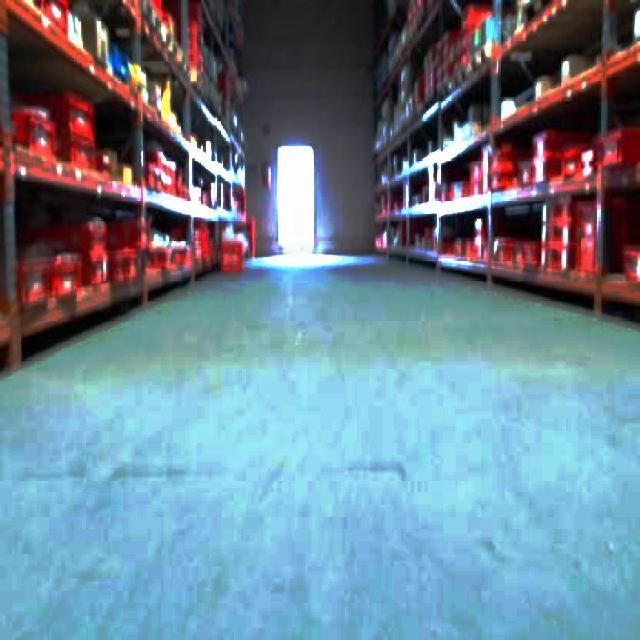ground: (0, 251, 638, 638)
pallet: (369, 0, 638, 345)
